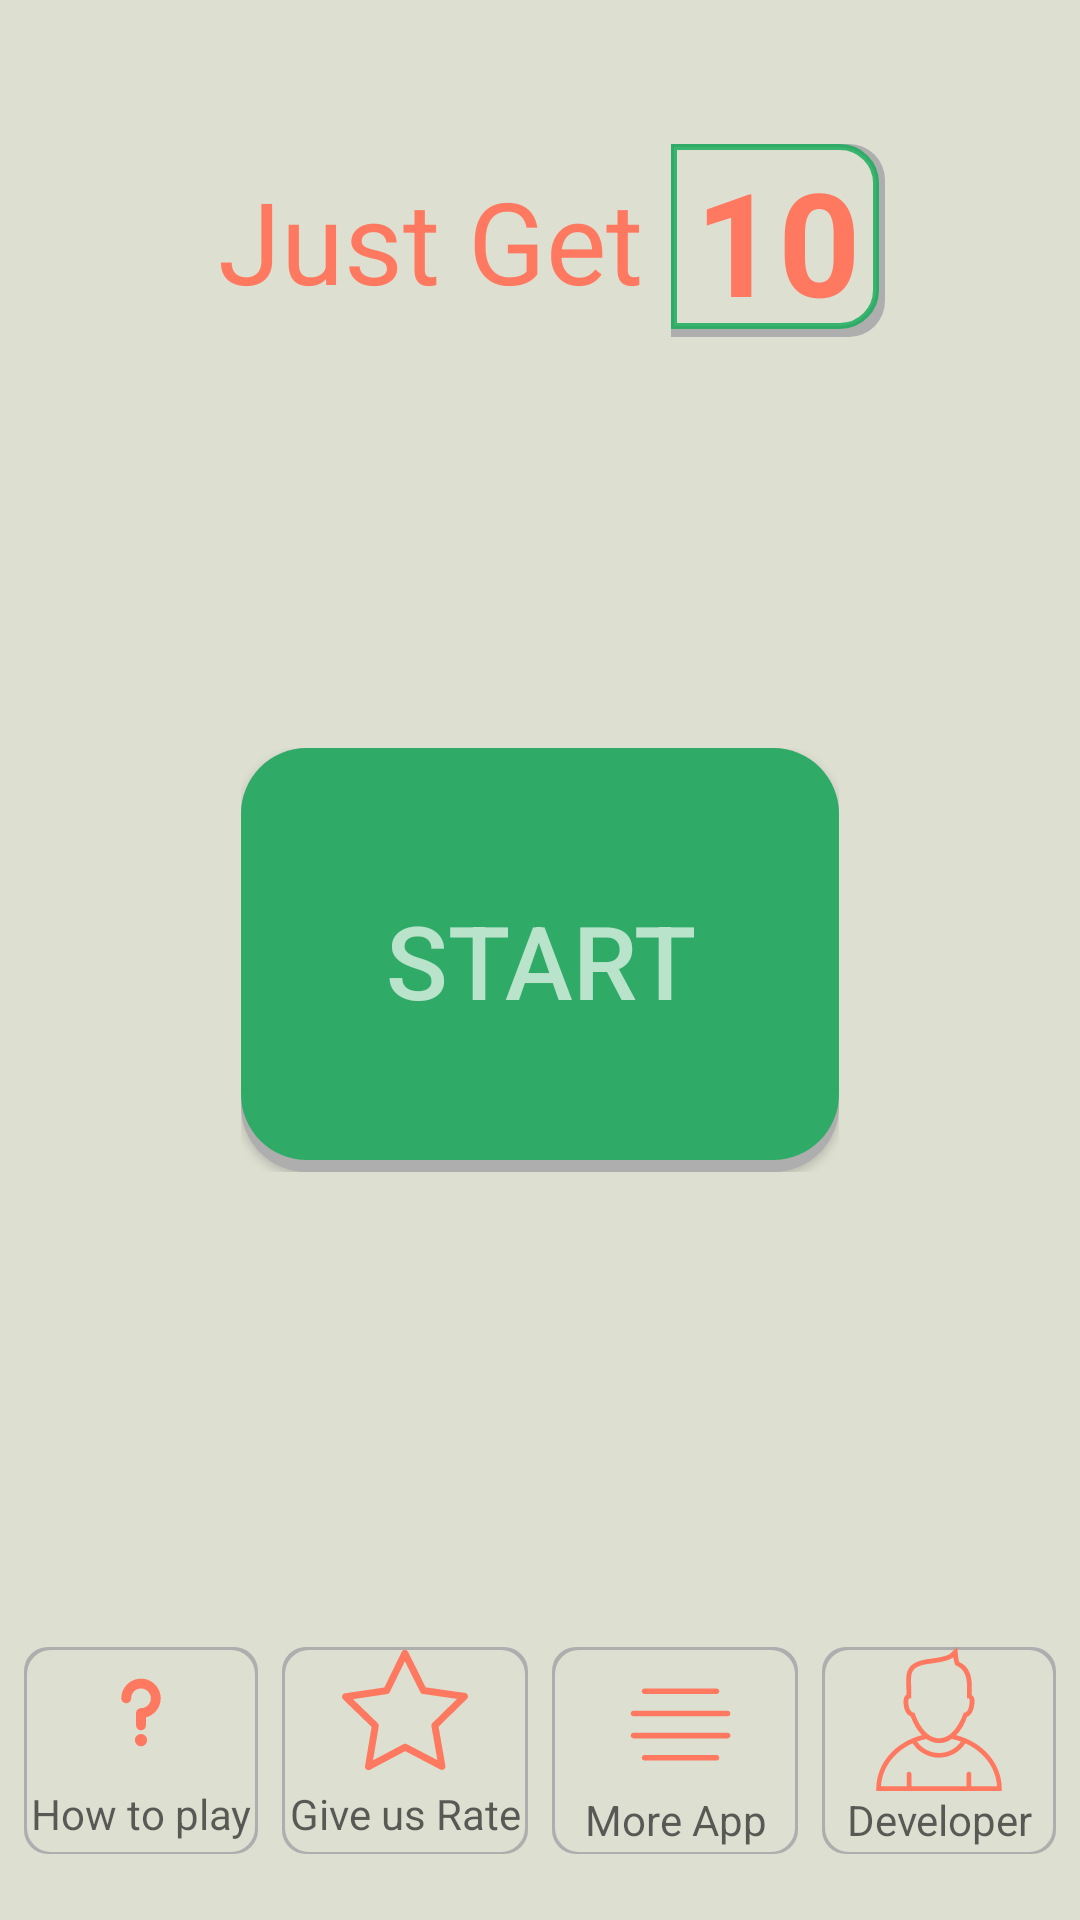

Icon bounding boxes for this 1080×1920 phone screenshot, format [x1, y1, x2, y2]:
boy: [867, 1647, 1011, 1791]
menu: [630, 1688, 731, 1761]
star: [342, 1647, 468, 1770]
